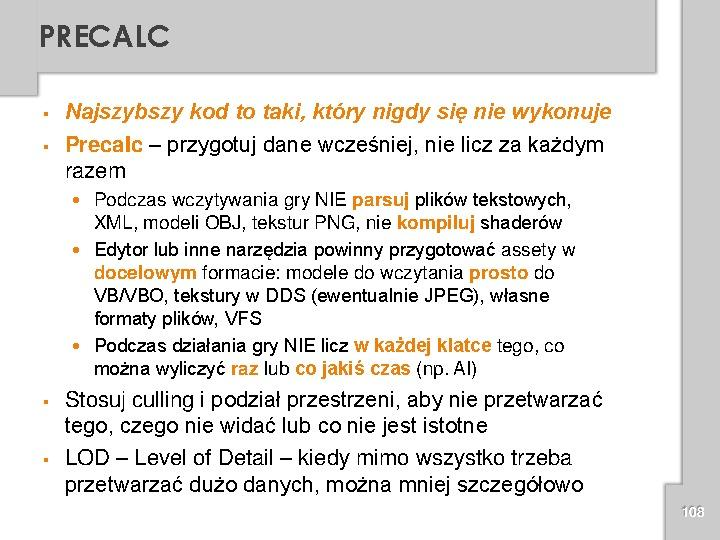paragraph: (30, 85, 639, 521)
title: (31, 13, 178, 56)
